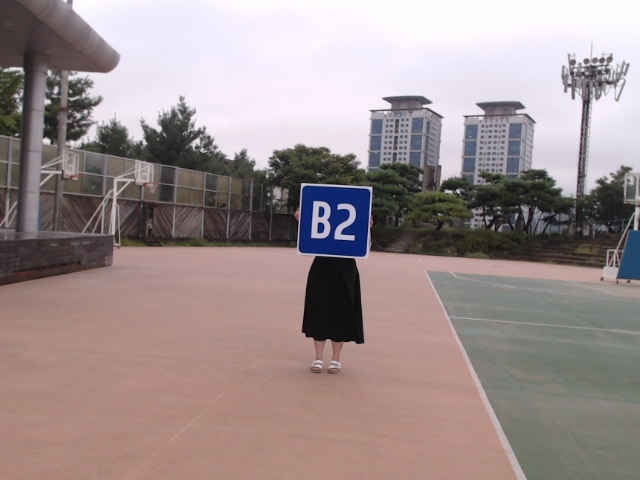delivery_b2: (297, 184, 371, 257)
